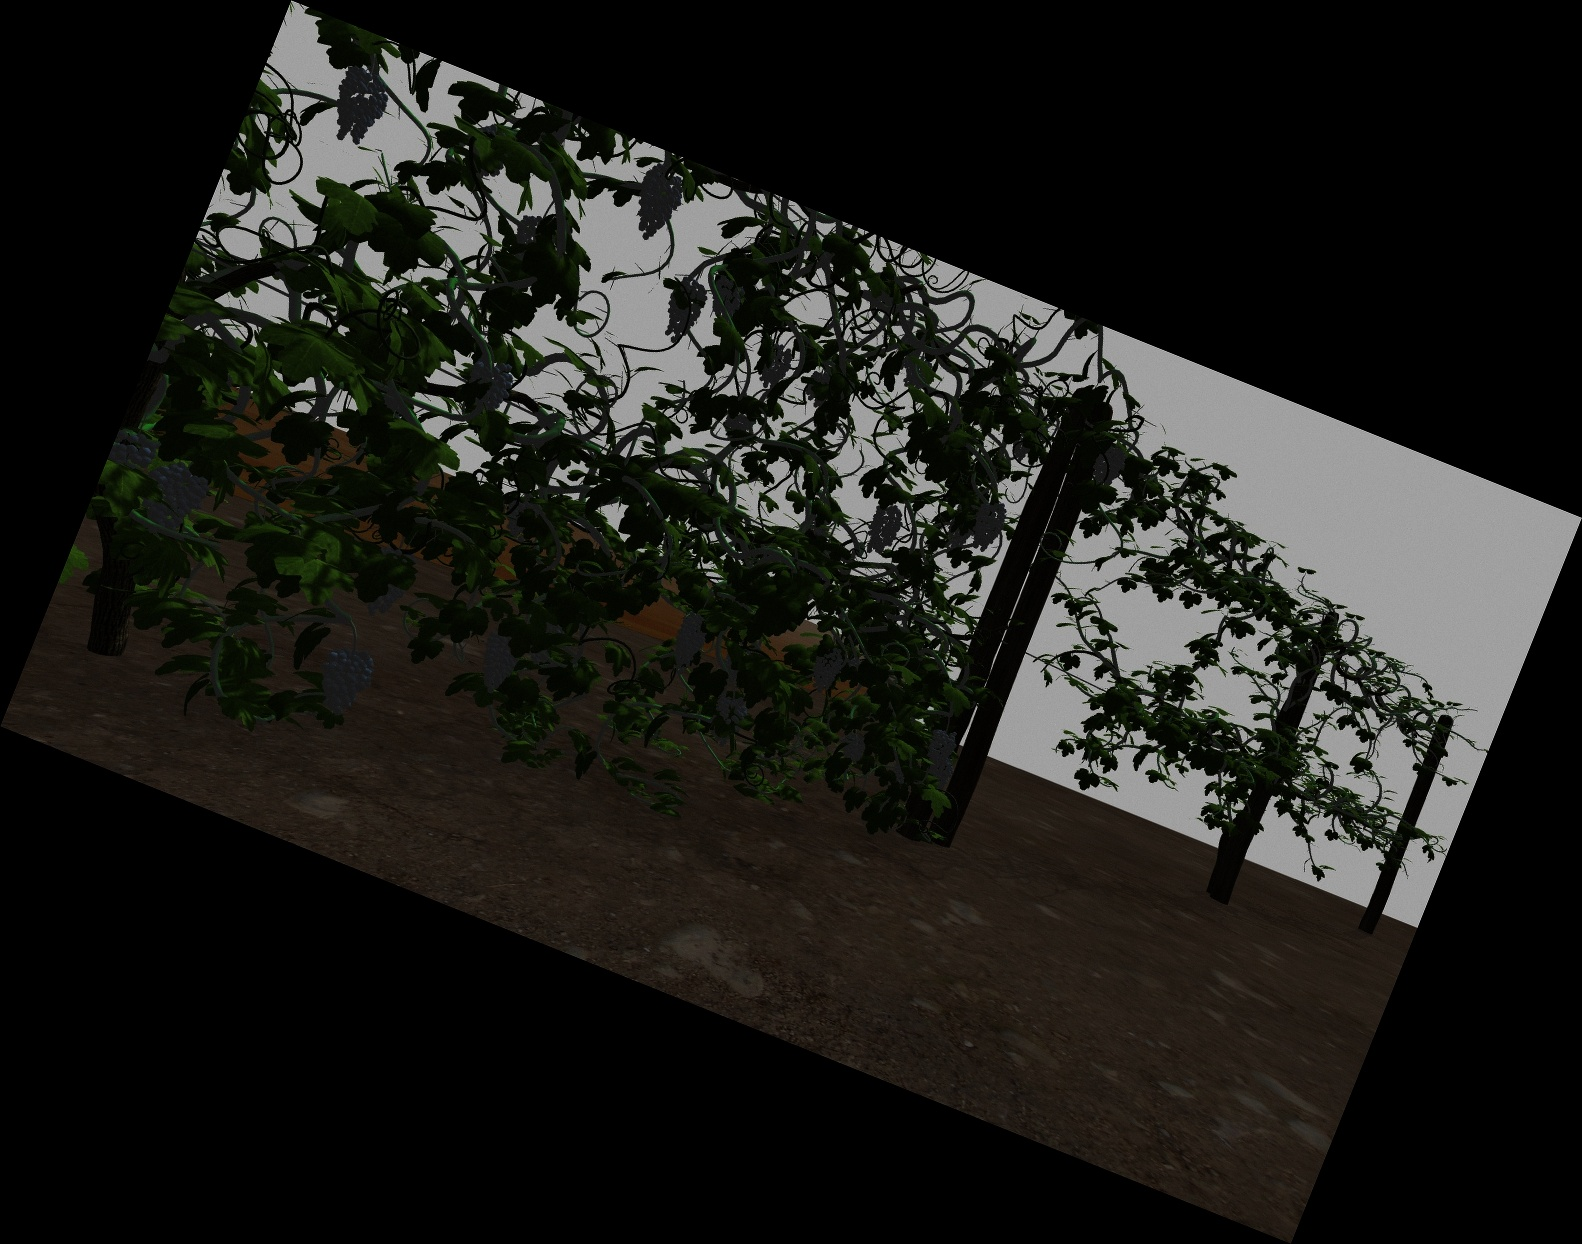grape: (144, 460, 203, 530), (334, 72, 384, 143), (318, 647, 369, 714), (634, 167, 679, 239), (478, 629, 523, 695), (466, 359, 509, 417), (664, 281, 702, 341), (673, 614, 706, 669), (869, 505, 898, 555), (975, 499, 1003, 549), (118, 433, 155, 466), (1094, 445, 1124, 487), (813, 648, 840, 692), (761, 344, 788, 388), (711, 279, 742, 316), (927, 730, 953, 766), (717, 693, 746, 721), (927, 759, 952, 790), (841, 732, 865, 763)
